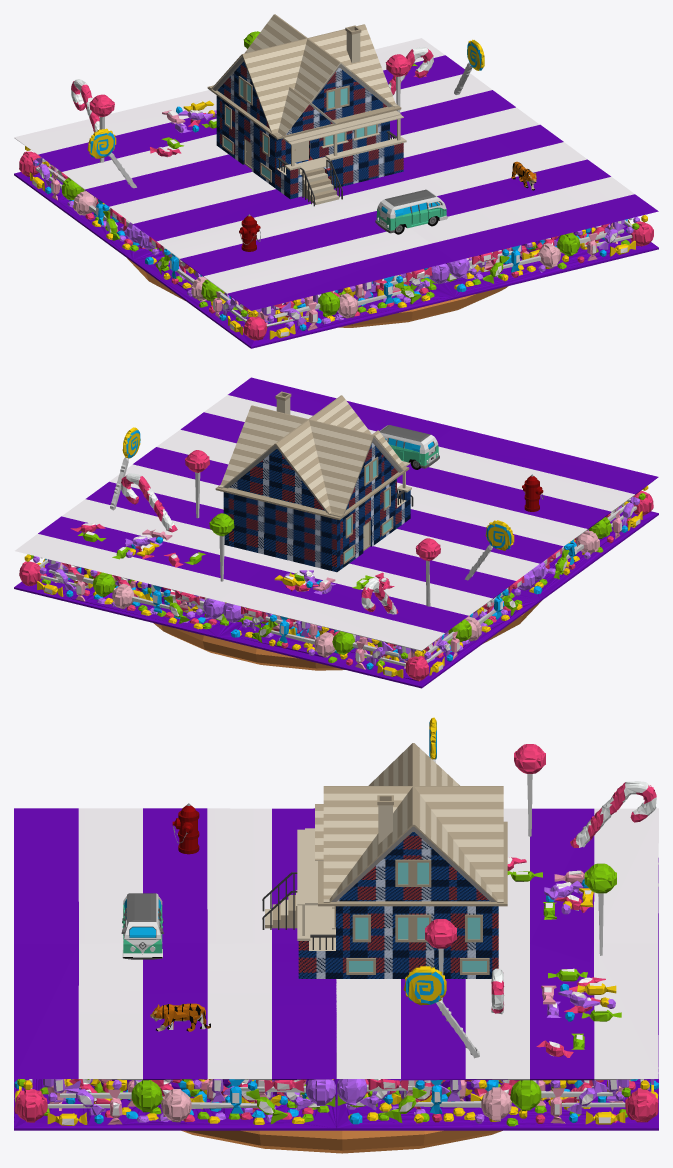
3 views of the same model, one above another, from view 1: azimuth 30°, elevation 25°; view 2: azimuth 150°, elevation 25°; view 3: azimuth 270°, elevation 25° (orthographic). The views are drawn at different scales.
Parts seen in each view (by area): view 1: TERRAIN_CANDY, Cube.171, VEHICLES_VAN, UNDERGROUND_PIZZA, OBJRANDOM_FIRE_HYDRANT; view 2: TERRAIN_CANDY, Cube.171, UNDERGROUND_PIZZA, VEHICLES_VAN, OBJRANDOM_FIRE_HYDRANT; view 3: TERRAIN_CANDY, Cube.171, UNDERGROUND_PIZZA, VEHICLES_VAN, ANIMAL_TIGRE, OBJRANDOM_FIRE_HYDRANT.
Part boxes in pixels (x1,y1,x2,y2): TERRAIN_CANDY: (14, 31, 658, 348); Cube.171: (207, 14, 406, 206); VEHICLES_VAN: (375, 189, 448, 234); UNDERGROUND_PIZZA: (127, 258, 508, 327); OBJRANDOM_FIRE_HYDRANT: (239, 214, 260, 251); TERRAIN_CANDY: (14, 377, 658, 688); Cube.171: (215, 391, 413, 572); UNDERGROUND_PIZZA: (153, 601, 541, 670); VEHICLES_VAN: (379, 425, 439, 469); OBJRANDOM_FIRE_HYDRANT: (522, 474, 543, 511); TERRAIN_CANDY: (14, 717, 658, 1130); Cube.171: (262, 743, 507, 978); UNDERGROUND_PIZZA: (181, 1130, 502, 1153); VEHICLES_VAN: (121, 893, 163, 959); ANIMAL_TIGRE: (150, 1003, 210, 1031); OBJRANDOM_FIRE_HYDRANT: (172, 803, 199, 854).
Size of the model in its own units: 4059 by 1796 by 4000.
Materials: 33 (3 with a texture image).
